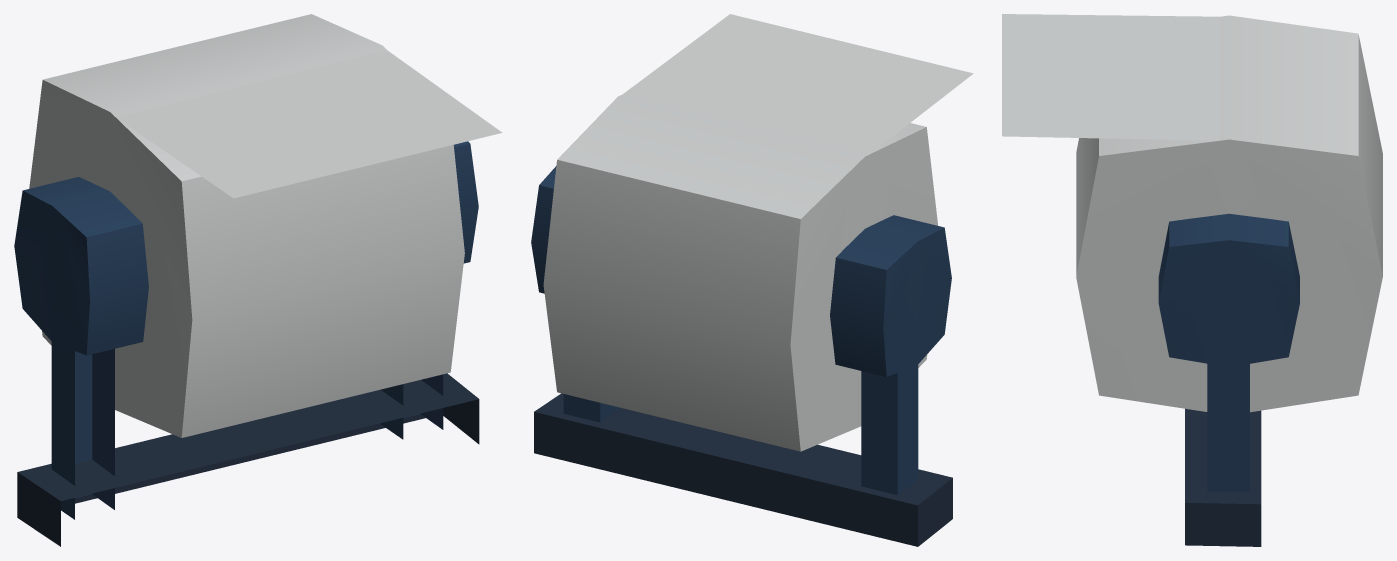
File: Toilet Roll 01.FBX
The picture shows the model from 3 angles, left to right: view 1: azimuth 30°, elevation 25°; view 2: azimuth 150°, elevation 25°; view 3: azimuth 270°, elevation 25°; orthographic projection. The views are drawn at different scales.
Visible parts, largest first — view 1: Toilet Roll 01; view 2: Toilet Roll 01; view 3: Toilet Roll 01.
Part boxes in pixels (box(x1,y1,x2,y2)): Toilet Roll 01: box(14, 14, 502, 546); Toilet Roll 01: box(531, 14, 973, 546); Toilet Roll 01: box(1002, 14, 1382, 546).
Bounding box in the file's own units: 65.01 × 58.91 × 54.19.
Materials: 1 (1 with a texture image).
